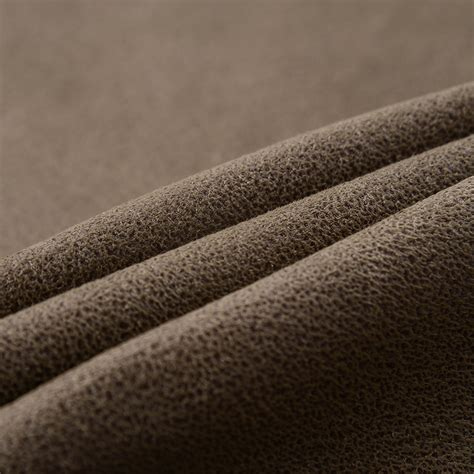gamuza: (1, 82, 474, 474)
